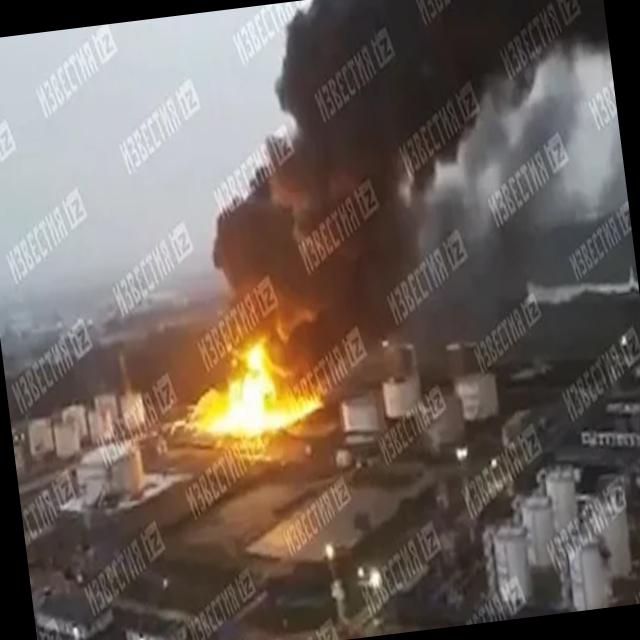Fire: (176, 328, 324, 457)
Smoke: (182, 0, 640, 401)
